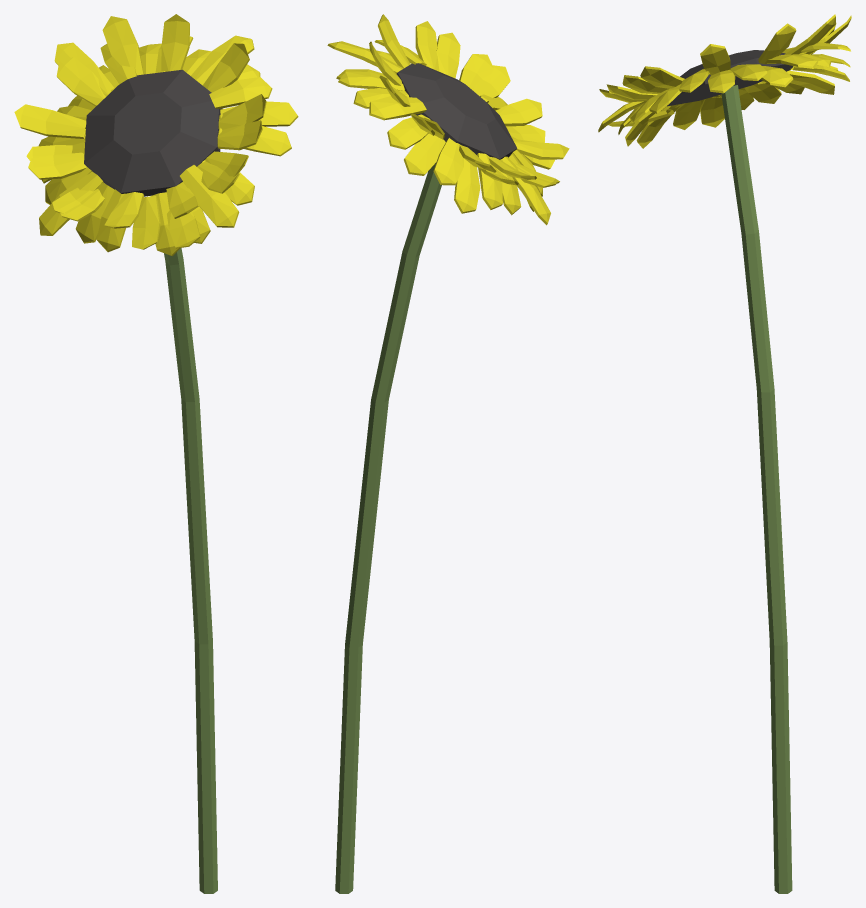
File: Kitchen_Flower.FBX
3 renders of one model, left to right at view 1: azimuth 30°, elevation 25°; view 2: azimuth 150°, elevation 25°; view 3: azimuth 270°, elevation 25°, orthographic. The views are drawn at different scales.
Visible parts, largest first — view 1: Vase_Sun_Flower; view 2: Vase_Sun_Flower; view 3: Vase_Sun_Flower.
Boxes of the visible parts, left/top/right/bottom form: Vase_Sun_Flower: left=14, top=14, right=298, bottom=893; Vase_Sun_Flower: left=327, top=14, right=569, bottom=893; Vase_Sun_Flower: left=598, top=14, right=851, bottom=893.
Size of the model in its own units: 0.0922 by 0.3539 by 0.0954.
